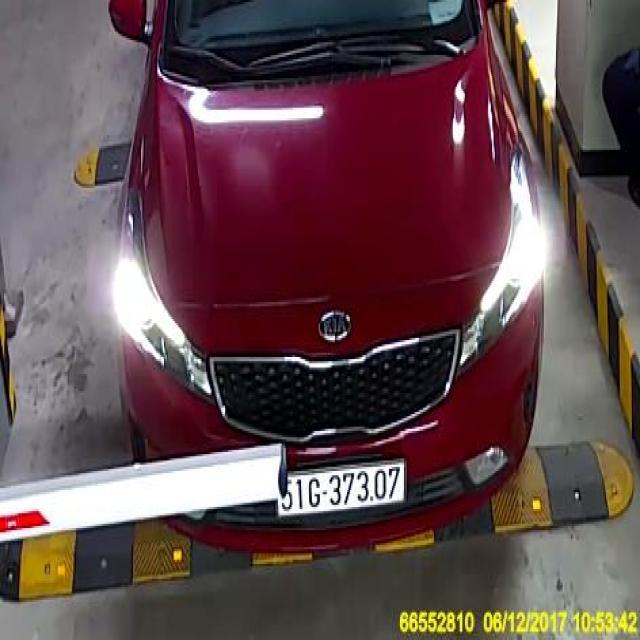bien_so_oto: (273, 461, 407, 517)
